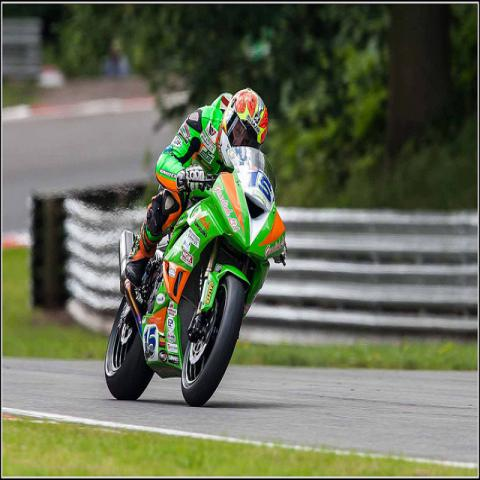motorcycle: (103, 160, 292, 400)
